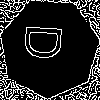D: (24, 23, 71, 62)
